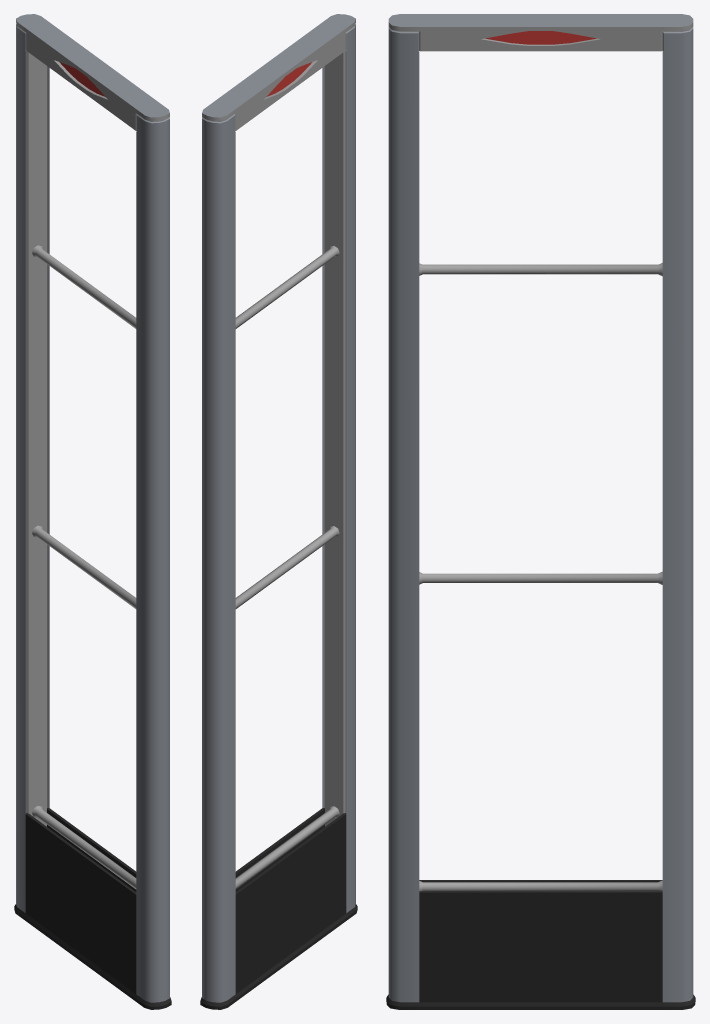
File: SM_Props_Supermarket_02.fbx
3 views of the same model, side by side, from view 1: azimuth 30°, elevation 25°; view 2: azimuth 150°, elevation 25°; view 3: azimuth 270°, elevation 25° (orthographic). The views are drawn at different scales.
Parts seen in each view (by area): view 1: SM_Props_Supermarket_02; view 2: SM_Props_Supermarket_02; view 3: SM_Props_Supermarket_02.
Boxes of the visible parts, bbox=[...] form: SM_Props_Supermarket_02: bbox=[14, 14, 171, 1009]; SM_Props_Supermarket_02: bbox=[200, 14, 357, 1009]; SM_Props_Supermarket_02: bbox=[386, 14, 695, 1009].
Size of the model in its own units: 0.05 by 1.6 by 0.4562.
